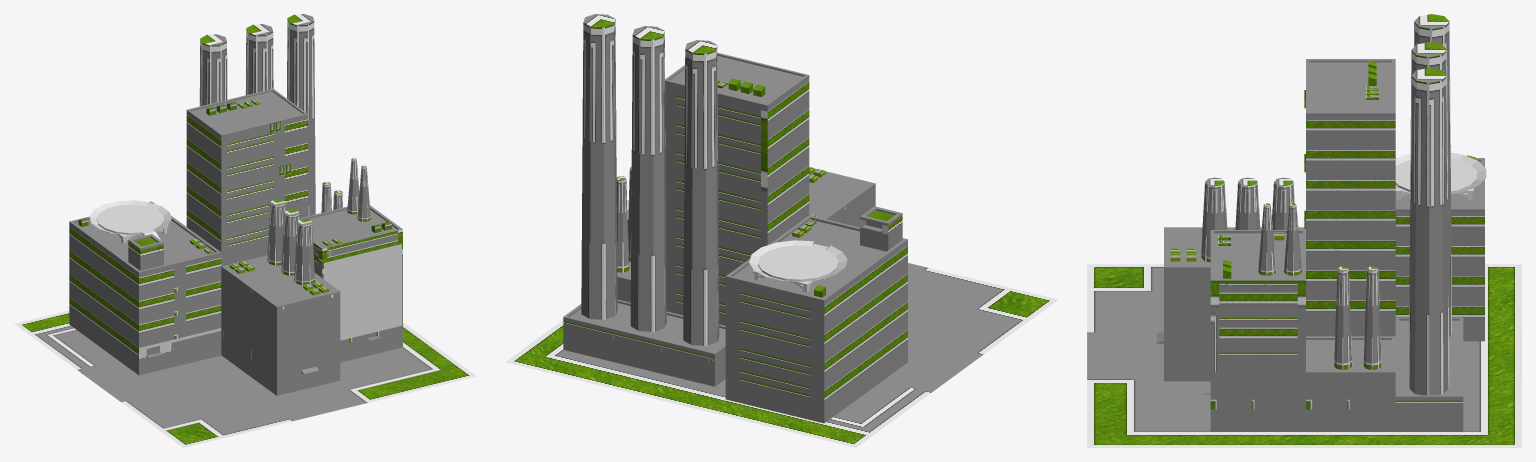
Rendered from Factory_Lvl_MEGA.fbx.
3 views of the same model, side by side, from view 1: azimuth 30°, elevation 25°; view 2: azimuth 150°, elevation 25°; view 3: azimuth 270°, elevation 25° (orthographic). The views are drawn at different scales.
Parts seen in each view (by area): view 1: Factory_Mega, MetalSmelterFactory_BG_Mega, Graffiti_001, HelicopterPlace, HelicopterPlace_Alpha_DoubleSided; view 2: Factory_Mega, MetalSmelterFactory_BG_Mega, HelicopterPlace, HelicopterPlace_Alpha_DoubleSided; view 3: Factory_Mega, MetalSmelterFactory_BG_Mega, HelicopterPlace, HelicopterPlace_Alpha_DoubleSided.
Part boxes in pixels (bbox=[...]): Factory_Mega: bbox=[69, 14, 402, 395]; MetalSmelterFactory_BG_Mega: bbox=[14, 310, 476, 447]; Graffiti_001: bbox=[324, 244, 401, 340]; HelicopterPlace: bbox=[96, 204, 168, 246]; HelicopterPlace_Alpha_DoubleSided: bbox=[89, 200, 171, 234]; Factory_Mega: bbox=[563, 14, 907, 423]; MetalSmelterFactory_BG_Mega: bbox=[505, 263, 1058, 447]; HelicopterPlace: bbox=[752, 244, 838, 292]; HelicopterPlace_Alpha_DoubleSided: bbox=[749, 240, 847, 281]; Factory_Mega: bbox=[1156, 14, 1484, 431]; MetalSmelterFactory_BG_Mega: bbox=[1087, 264, 1521, 447]; HelicopterPlace: bbox=[1395, 158, 1476, 199]; HelicopterPlace_Alpha_DoubleSided: bbox=[1395, 152, 1486, 194].
Bounding box in the file's own units: 4000 × 3510 × 4000.
